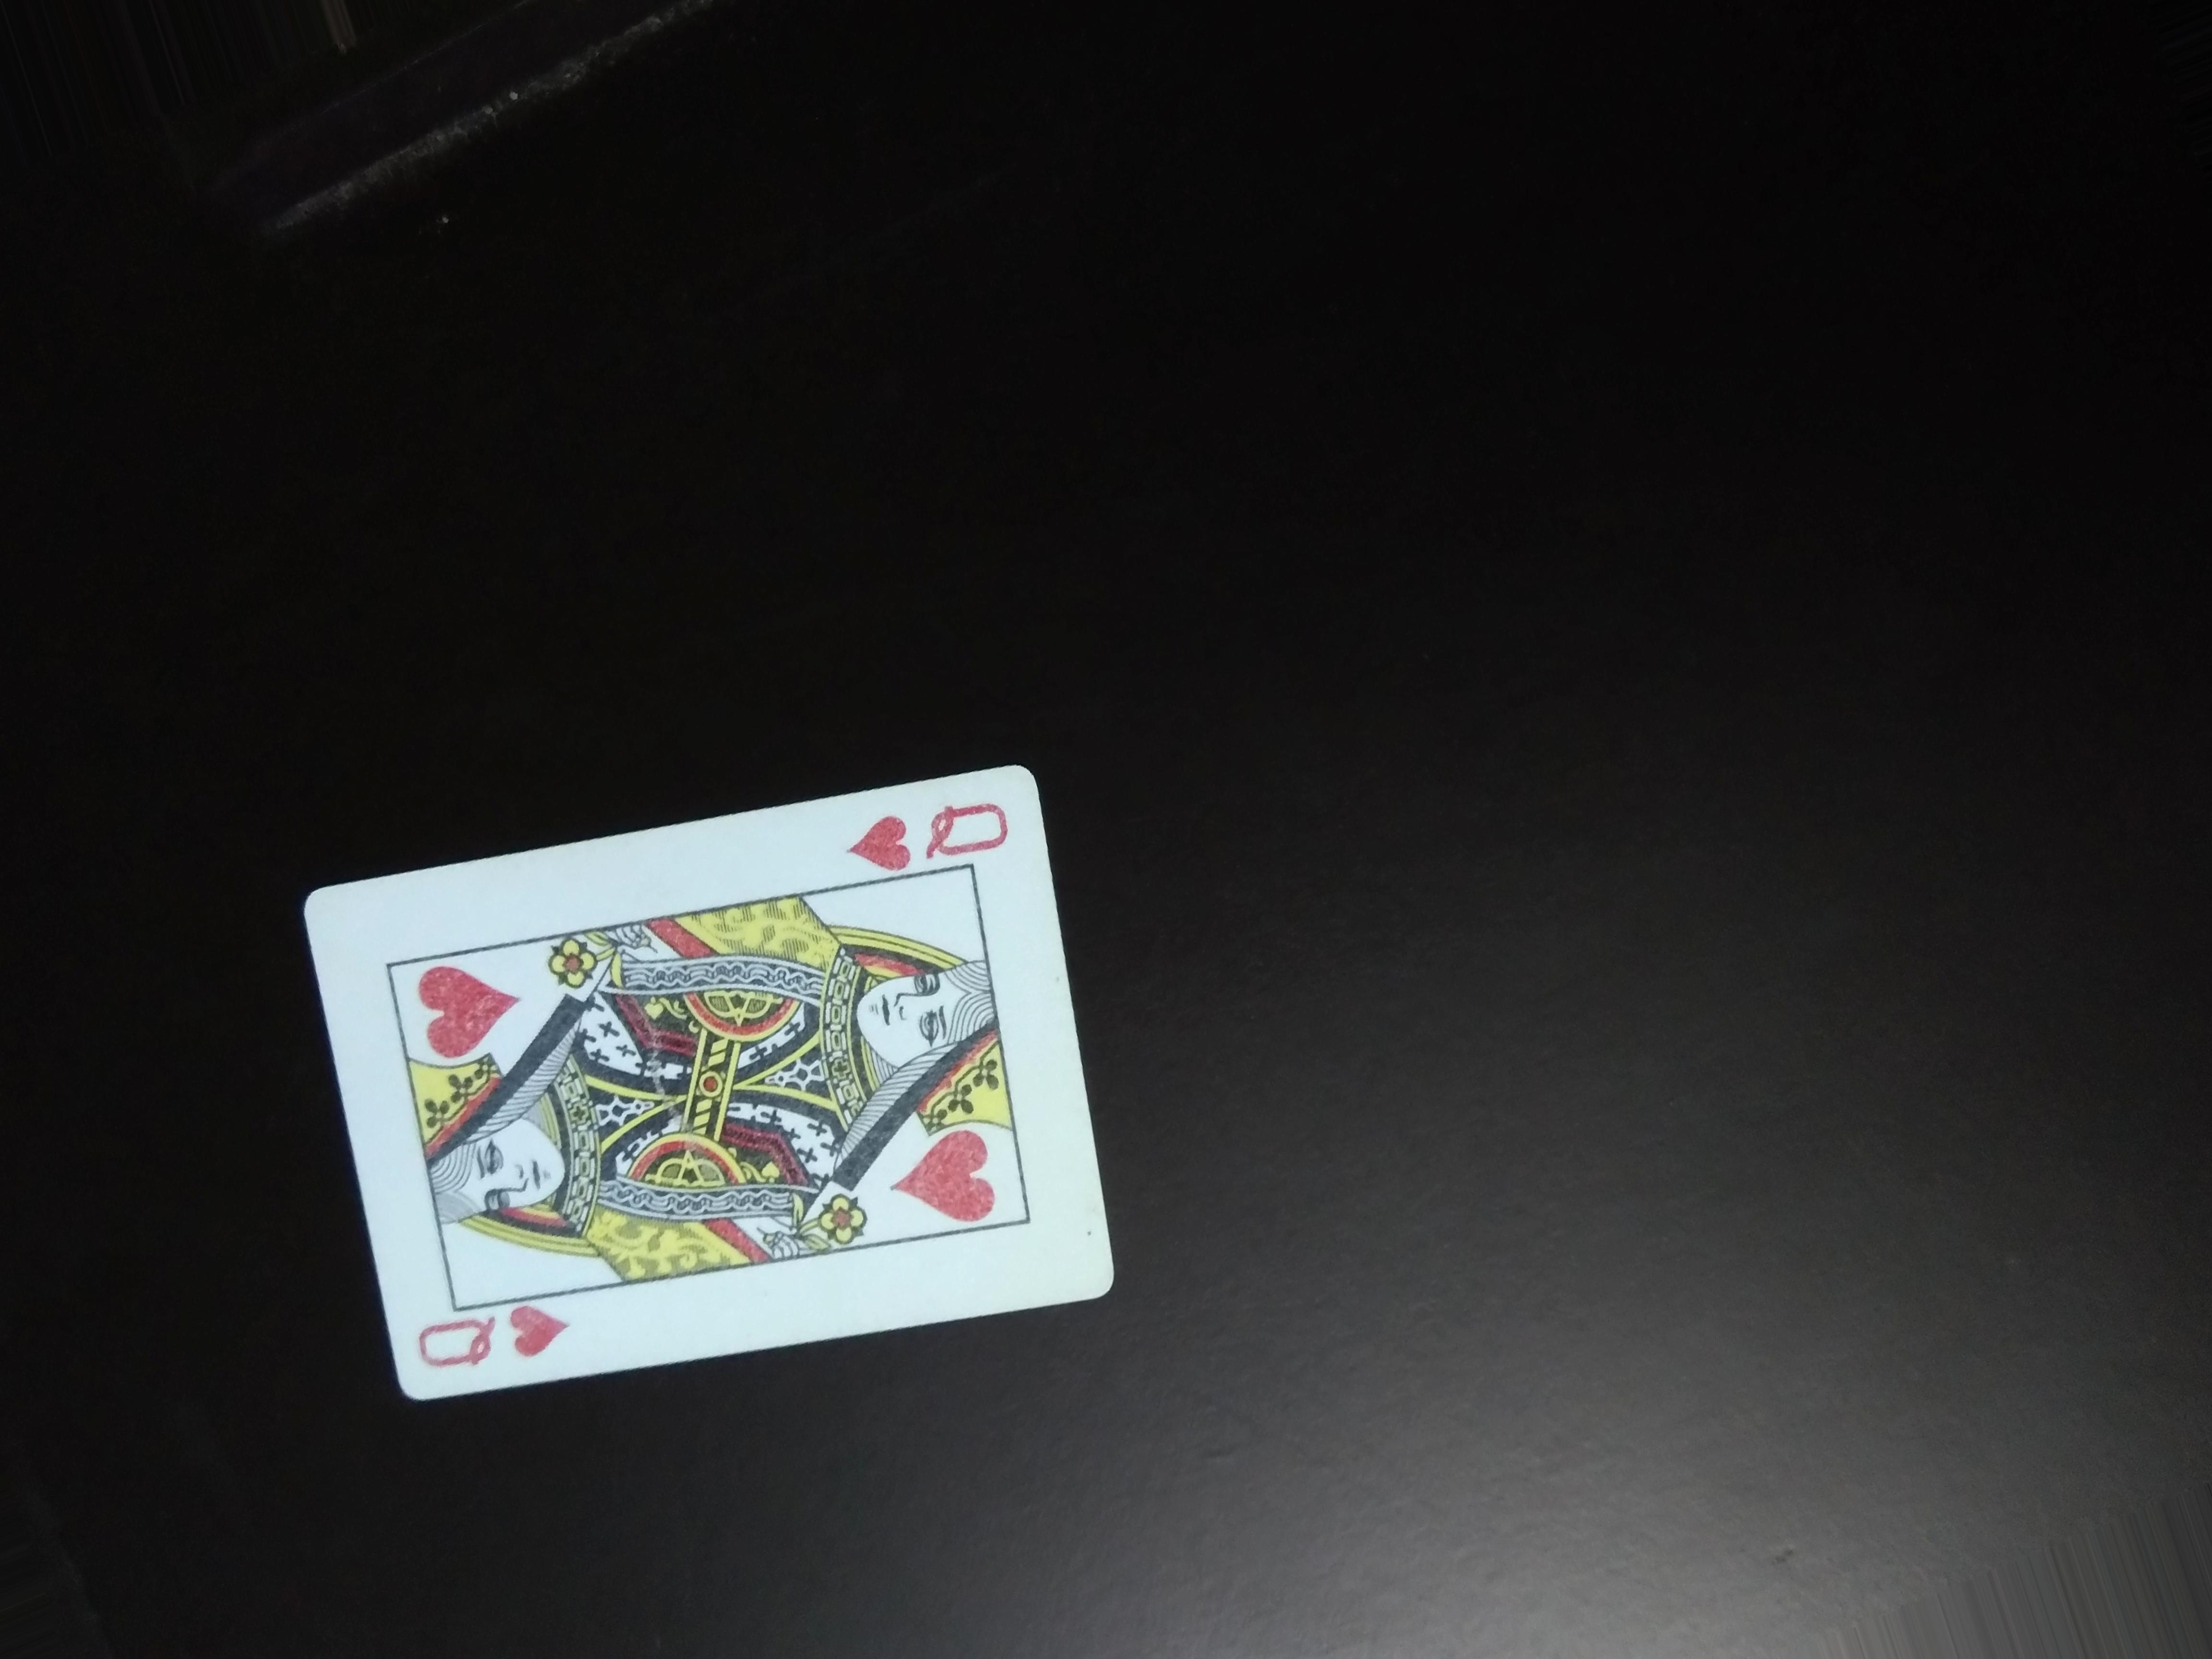QH: (780, 793, 1019, 868)
